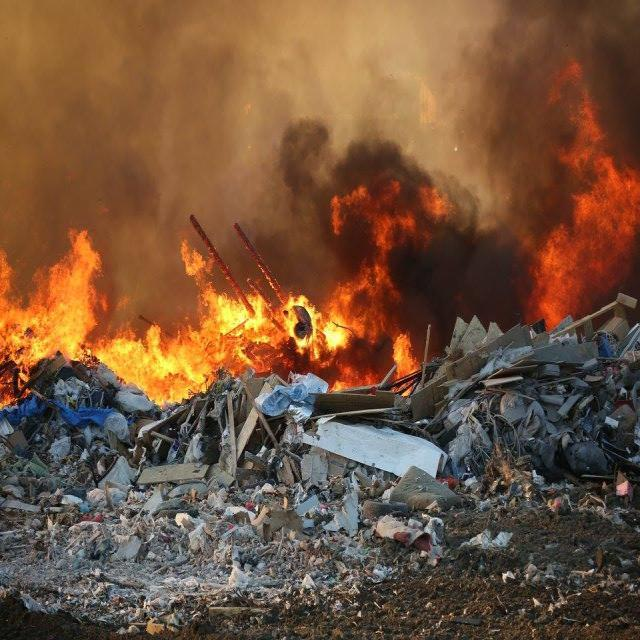Fire: (0, 167, 465, 436), (527, 46, 640, 347)
Smoke: (0, 0, 379, 351), (222, 88, 554, 361), (431, 0, 640, 335)
